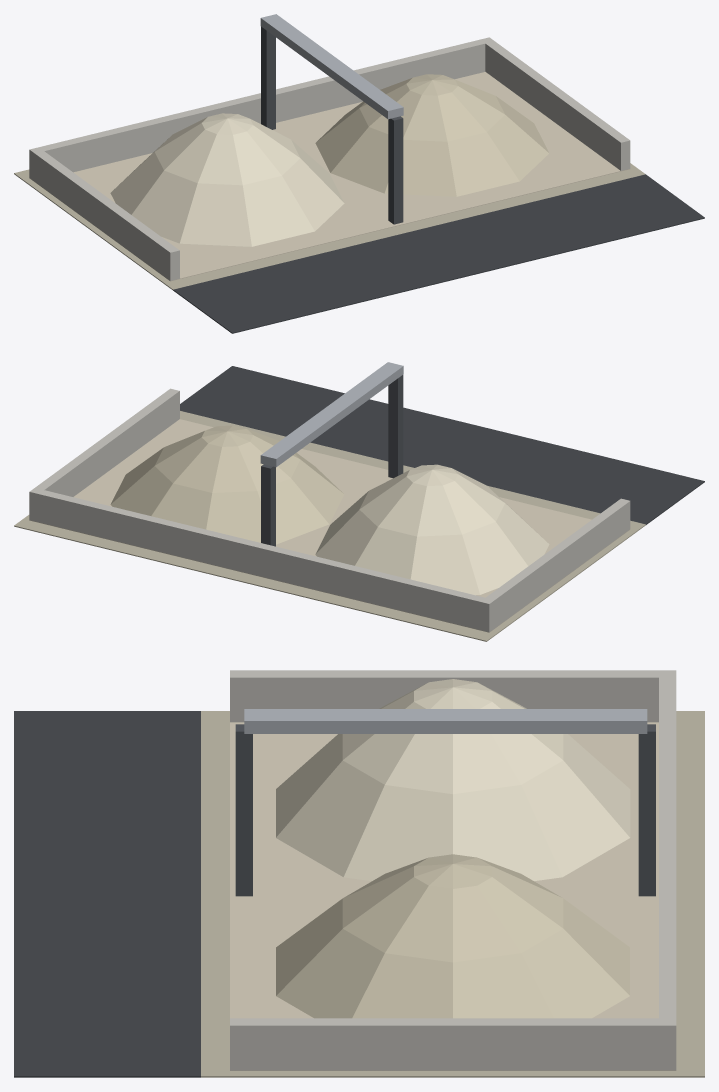
Rendered from site_heap_lime.glb.
The picture shows the model from 3 angles, top to bottom: view 1: azimuth 30°, elevation 25°; view 2: azimuth 150°, elevation 25°; view 3: azimuth 270°, elevation 25°; orthographic projection. The views are drawn at different scales.
Visible parts, largest first — view 1: site_heap_lime; view 2: site_heap_lime; view 3: site_heap_lime.
Part boxes in pixels (x1,y1,x2,y2): site_heap_lime: (14,14,704,333); site_heap_lime: (14,362,704,641); site_heap_lime: (14,670,704,1077).
Bounding box in the file's own units: 30 × 6.9 × 24.
